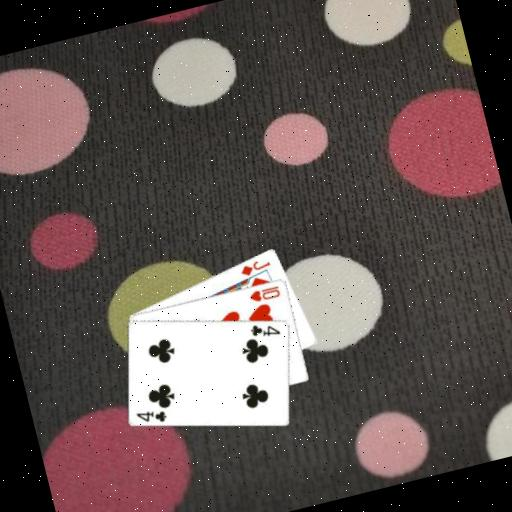10H: (245, 281, 282, 304)
4C: (246, 316, 283, 343), (133, 403, 170, 430)
JD: (236, 254, 274, 279)
